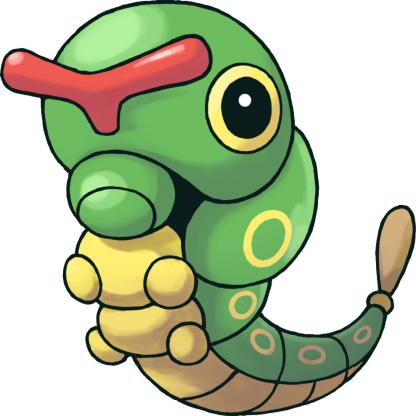Caterpie: (11, 6, 416, 414)
